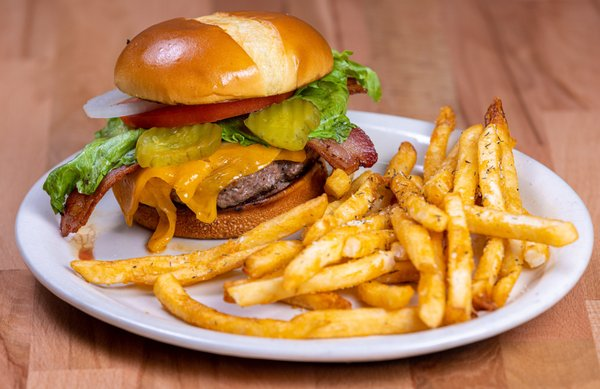soup: (43, 11, 383, 265)
